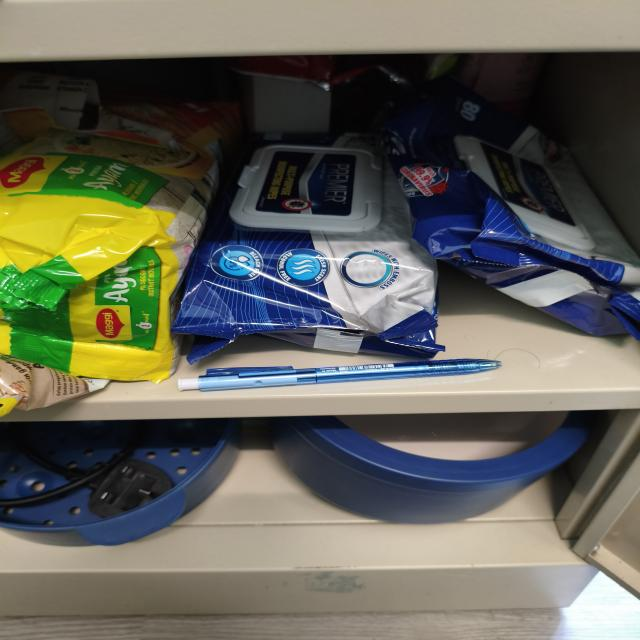pen: (178, 359, 501, 391)
